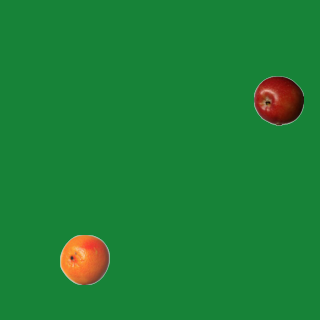Apple Braeburn: (253, 75, 303, 125)
Grapefruit Pink: (59, 234, 109, 284)
